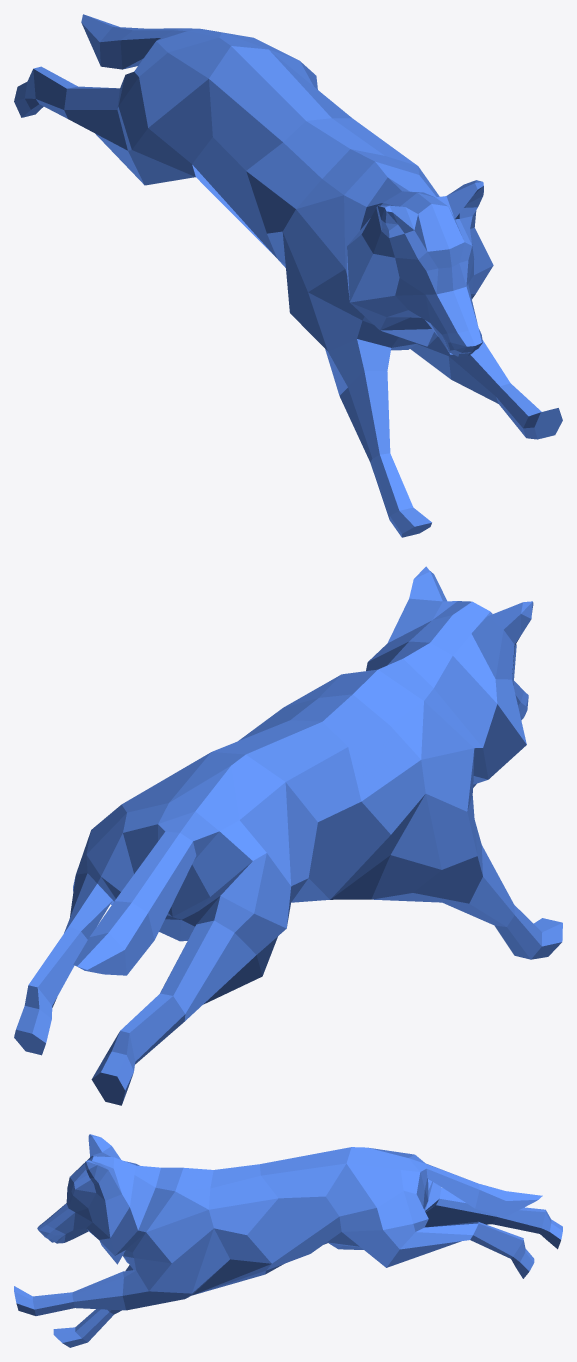
File: wolfRunA_v009006.obj
3 views of the same model, one above another, from view 1: azimuth 30°, elevation 25°; view 2: azimuth 150°, elevation 25°; view 3: azimuth 270°, elevation 25° (orthographic). The views are drawn at different scales.
Visible parts, largest first — view 1: comp_wolf_rig:wolf_body comp_wolf_rig:wolf; view 2: comp_wolf_rig:wolf_body comp_wolf_rig:wolf; view 3: comp_wolf_rig:wolf_body comp_wolf_rig:wolf.
Part boxes in pixels (x1,y1,x2,y2): comp_wolf_rig:wolf_body comp_wolf_rig:wolf: (14,14,562,537); comp_wolf_rig:wolf_body comp_wolf_rig:wolf: (14,566,562,1105); comp_wolf_rig:wolf_body comp_wolf_rig:wolf: (14,1134,562,1347).
Bounding box in the file's own units: 40.39 × 65.72 × 155.
